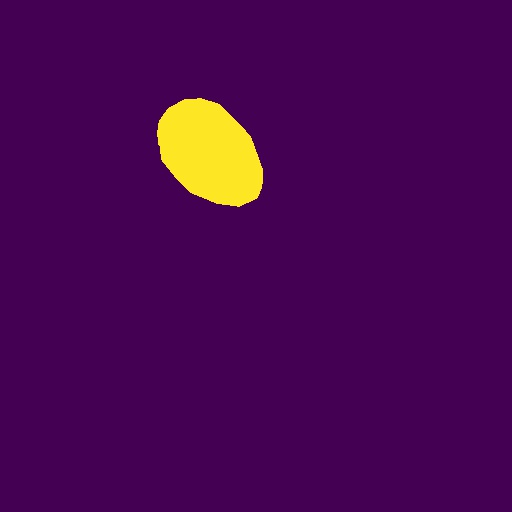Gliomia_tumour: (157, 98, 263, 207)
